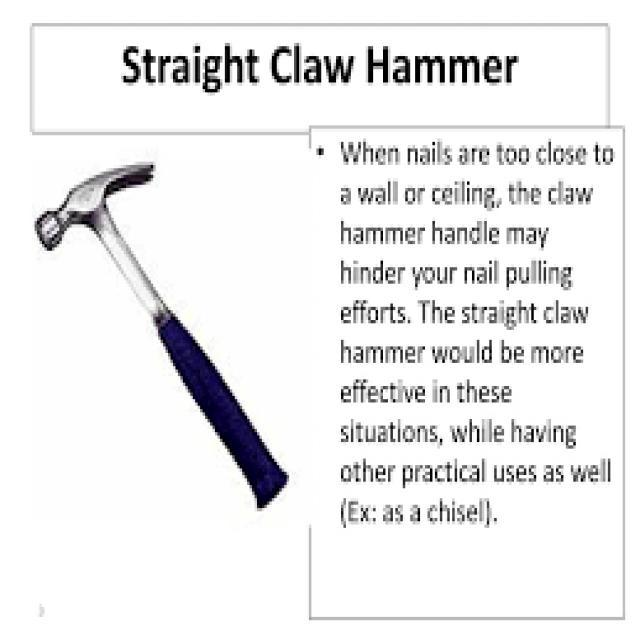hammer: (20, 147, 302, 523)
